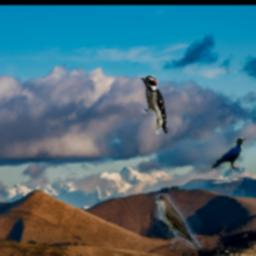Crow: (213, 138, 246, 170)
Cuckoo: (154, 194, 202, 249)
Woodpecker: (139, 75, 169, 134)
